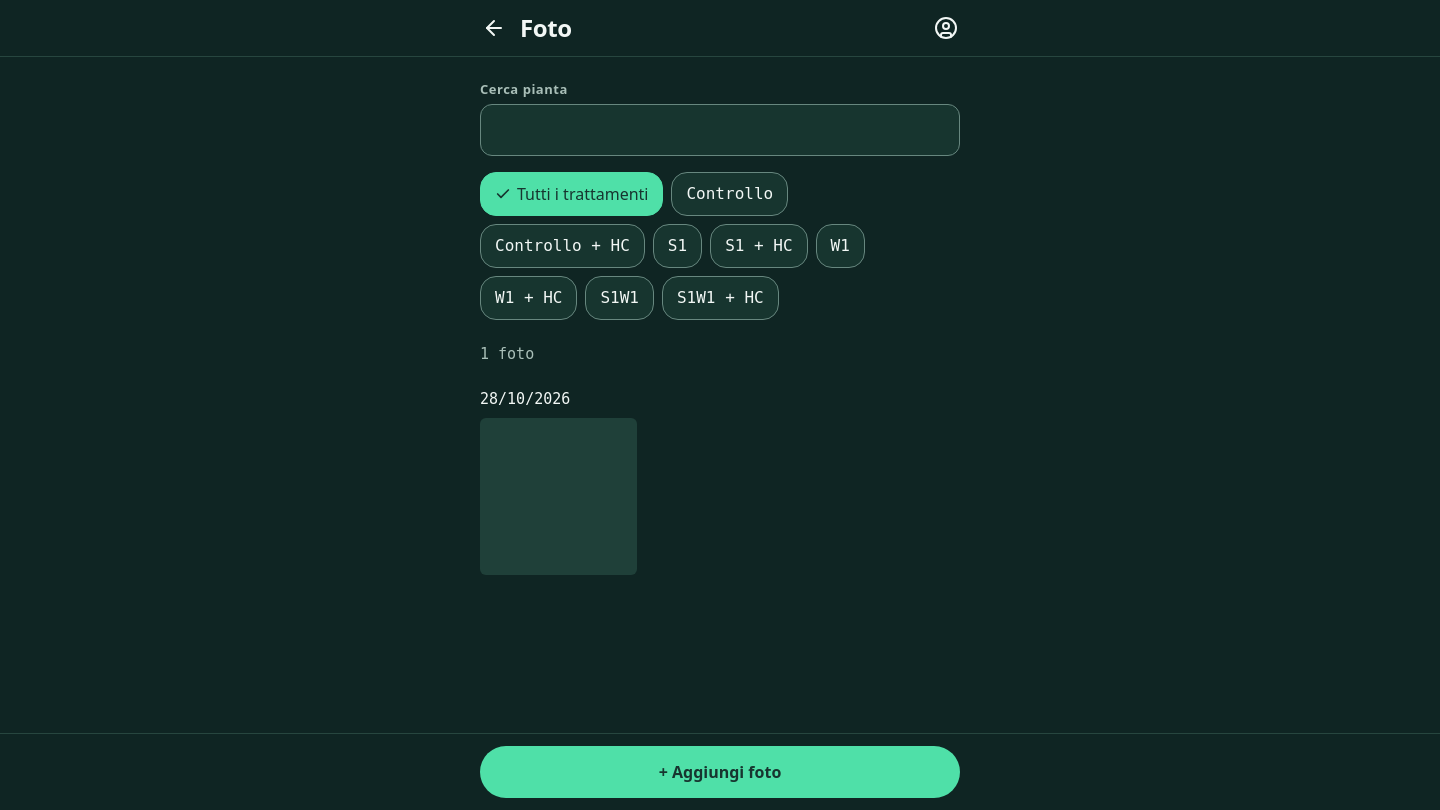
Test: foto per ruolo › il rilevatore, foto altrui: "Elimina foto" utente-altro
Click the button named "28/10".
click(559, 497)  # box [480,418,637,575]
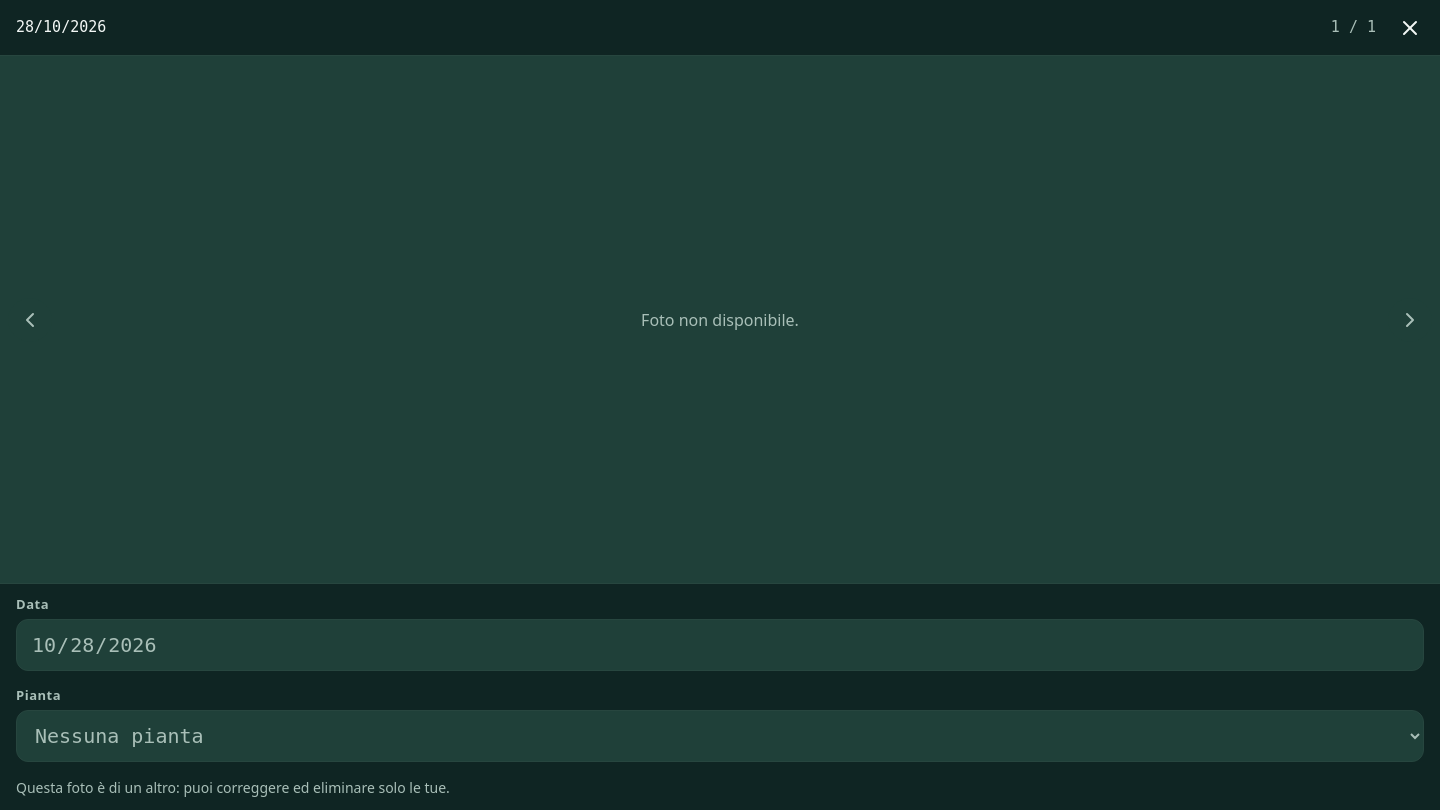
Check: the text "è di un altro" is shown, box [16,778,450,797]
Check: the date field labelled "Data" is disabled, box [16,619,1424,671]
